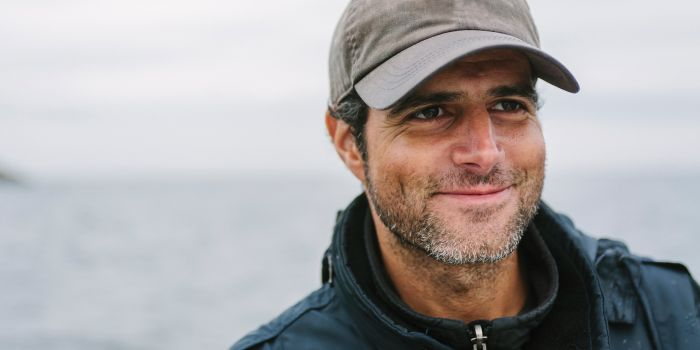Without Helmet: (319, 1, 582, 273)
